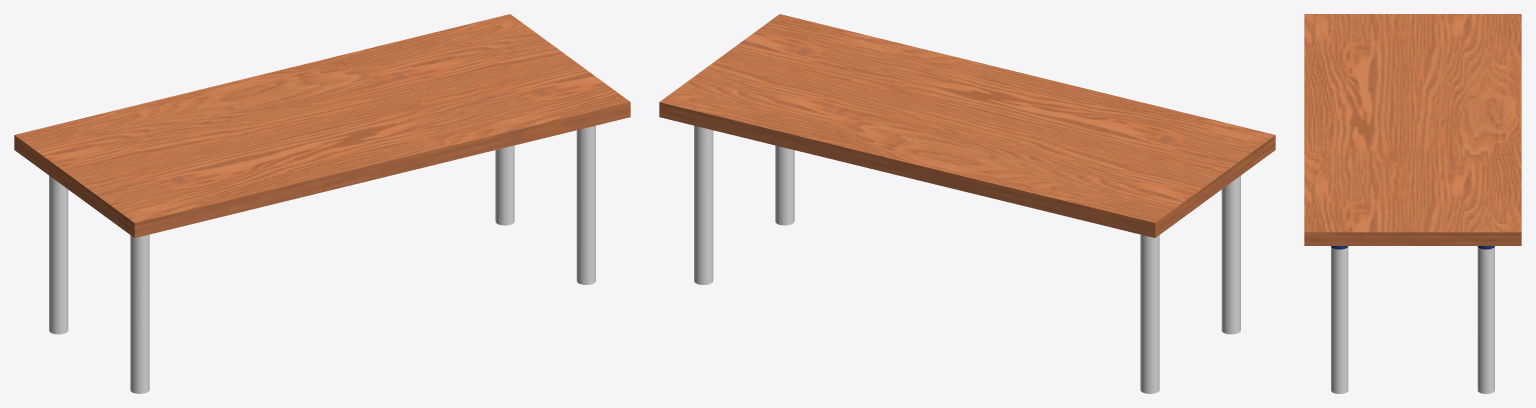
Rendered from table.fbx.
3 renders of one model, left to right at view 1: azimuth 30°, elevation 25°; view 2: azimuth 150°, elevation 25°; view 3: azimuth 270°, elevation 25°, orthographic. The views are drawn at different scales.
Parts seen in each view (by area): view 1: table; view 2: table; view 3: table.
Part boxes in pixels (left/top/right/bottom): table: left=14, top=14, right=630, bottom=393; table: left=659, top=14, right=1275, bottom=393; table: left=1304, top=14, right=1521, bottom=393.
Size of the model in its own units: 261 by 94.26 by 110.
1 material, 1 textured.
